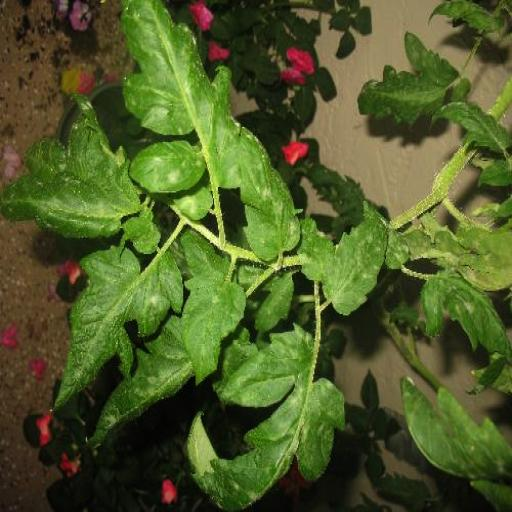Leaf Mold: (184, 329, 350, 512), (52, 234, 186, 414), (112, 2, 246, 144), (1, 102, 131, 238), (394, 380, 512, 494), (234, 126, 302, 258), (414, 267, 512, 357), (323, 209, 389, 319), (126, 140, 208, 196)
